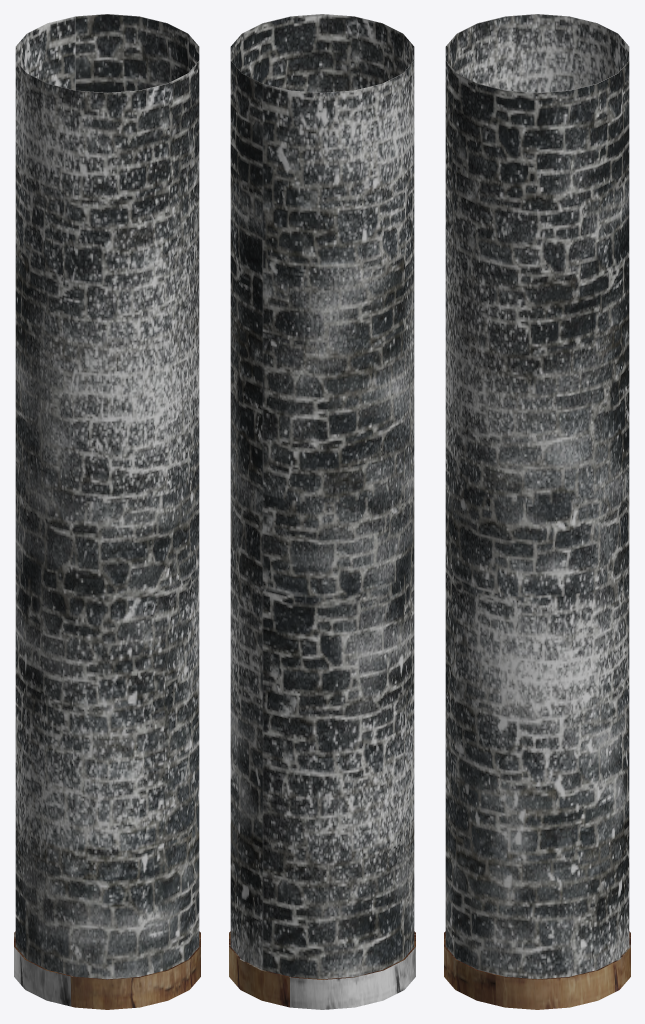
File: sculpture.obj
3 renders of one model, left to right at view 1: azimuth 30°, elevation 25°; view 2: azimuth 150°, elevation 25°; view 3: azimuth 270°, elevation 25°, orthographic.
Parts seen in each view (by area): view 1: ModuleFBXASC0321; view 2: ModuleFBXASC0321; view 3: ModuleFBXASC0321.
Part boxes in pixels (x1,y1,x2,y2): ModuleFBXASC0321: [14, 14, 200, 1009]; ModuleFBXASC0321: [229, 14, 415, 1009]; ModuleFBXASC0321: [444, 14, 630, 1009].
Size of the model in its own units: 2859 by 15233 by 2815.
